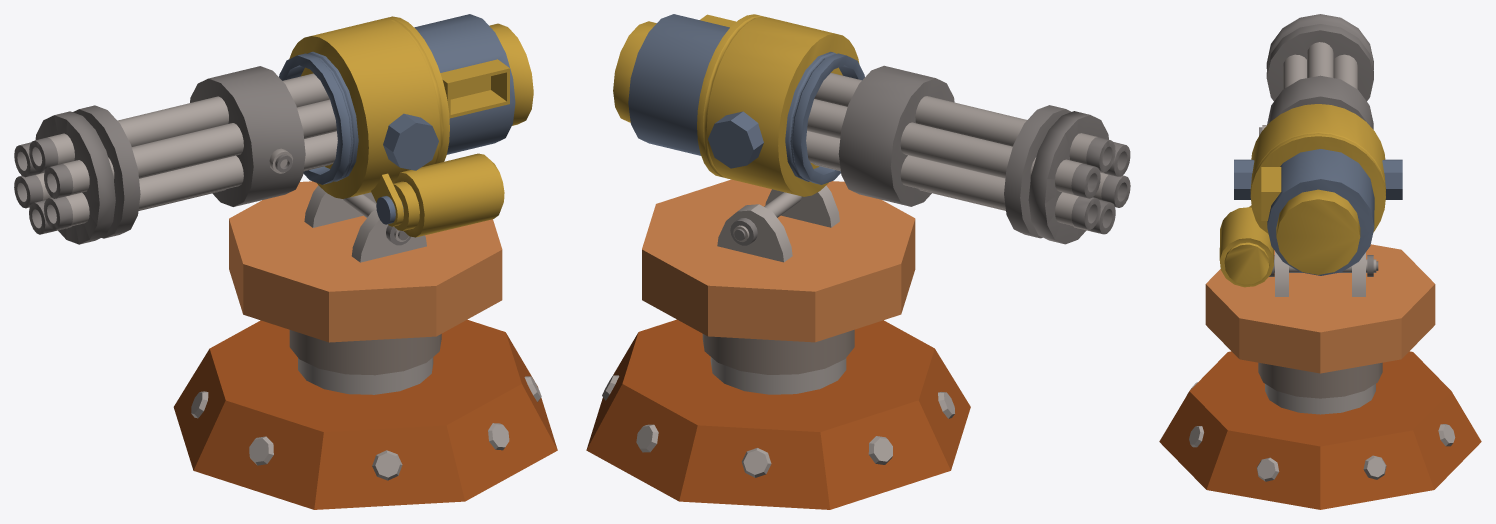
Rendered from gatling.fbx.
The picture shows the model from 3 angles, left to right: view 1: azimuth 30°, elevation 25°; view 2: azimuth 150°, elevation 25°; view 3: azimuth 270°, elevation 25°; orthographic projection. The views are drawn at different scales.
Visible parts, largest first — view 1: platform, base gatling, muzzle; view 2: platform, muzzle, base gatling; view 3: platform, base gatling, muzzle.
Part boxes in pixels (x1,y1,x2,y2): platform: (173,181,557,509); base gatling: (279,14,533,237); muzzle: (14,66,337,244); platform: (586,179,970,509); muzzle: (806,65,1130,244); base gatling: (613,14,864,196); platform: (1159,244,1481,509); base gatling: (1219,104,1402,287); muzzle: (1259,14,1373,135).
Bounding box in the file's own units: 6.87 × 5.21 × 4.72.
